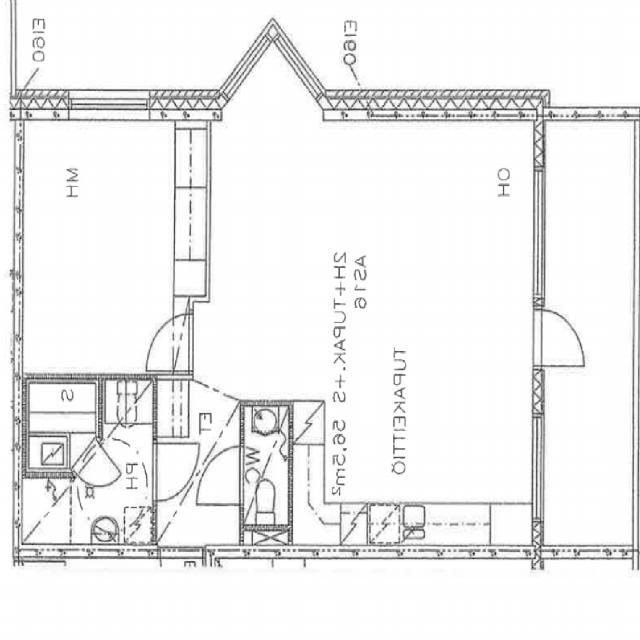door: (535, 308, 591, 370), (160, 546, 203, 618), (72, 443, 116, 505), (146, 313, 192, 369), (152, 444, 197, 498), (201, 448, 245, 502)
